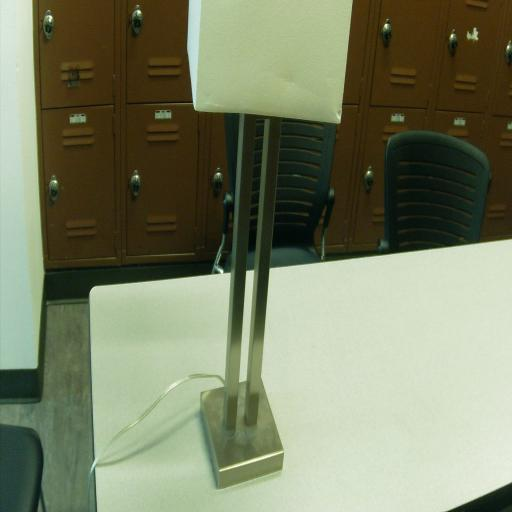lamp: (187, 1, 353, 490)
